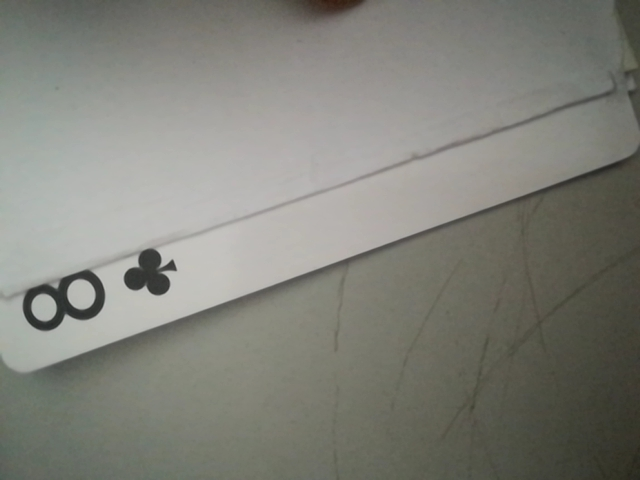mh 8: (2, 243, 189, 347)
